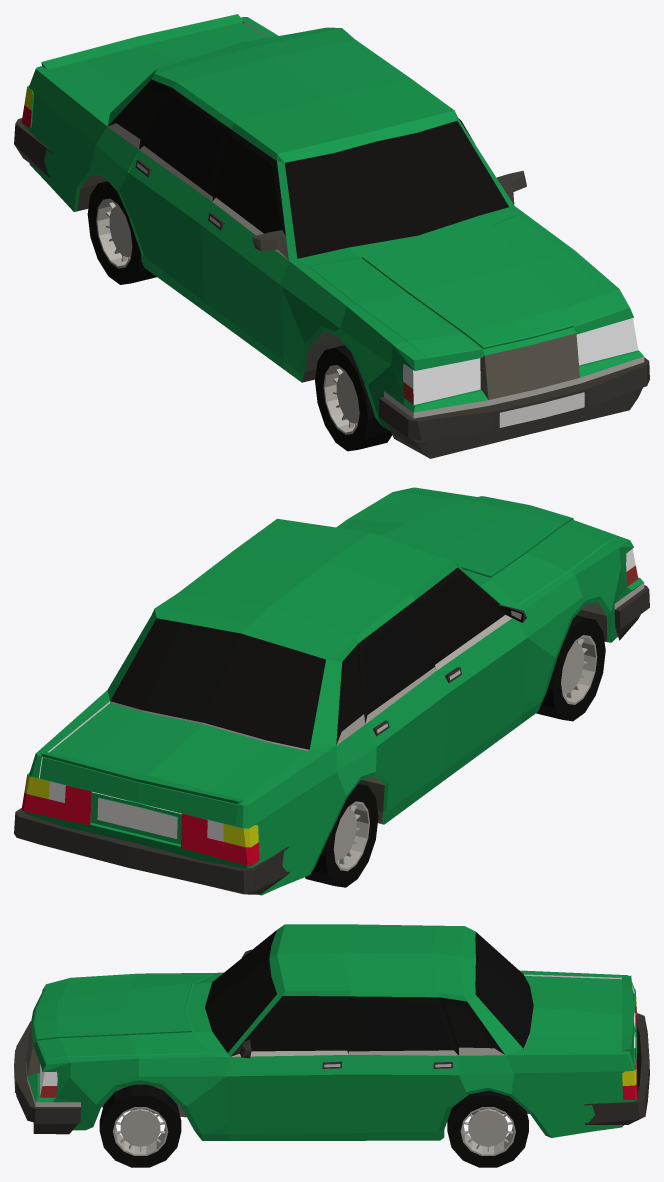
The model's file is Volvo240_1.0.0.fbx.
The picture shows the model from 3 angles, top to bottom: view 1: azimuth 30°, elevation 25°; view 2: azimuth 150°, elevation 25°; view 3: azimuth 270°, elevation 25°; orthographic projection. The views are drawn at different scales.
Visible parts, largest first — view 1: Chassi, Hood, Windscreen, Bumper.F, Doors.FR, Door.RR, Trunk, Wheels.FR, Windows.FR, Window.RR, Wheels.RR, Windows.QR (+1 smaller); view 2: Chassi, Trunk, Window.R, Hood, Doors.FR, Door.RR, Bumper.R, Wheels.FR, Wheels.RR, Windows.FR, Window.RR, Bumper.F (+1 smaller); view 3: Chassi, Hood, Doors.FL, Door.RL, Trunk, Wheels.FL, Wheels.RL, Windscreen, Windows.FL, Window.RL, Window.R, Bumper.F (+2 smaller).
Part boxes in pixels (bbox=[...]): Chassi: bbox=[21, 17, 643, 430]; Hood: bbox=[307, 214, 619, 358]; Windscreen: bbox=[284, 120, 508, 258]; Bumper.F: bbox=[379, 356, 649, 458]; Doors.FR: bbox=[201, 129, 288, 360]; Door.RR: bbox=[119, 88, 230, 301]; Trunk: bbox=[41, 14, 268, 112]; Wheels.FR: bbox=[315, 345, 392, 451]; Windows.FR: bbox=[216, 135, 282, 233]; Window.RR: bbox=[146, 94, 223, 188]; Wheels.RR: bbox=[87, 181, 156, 284]; Windows.QR: bbox=[116, 89, 165, 139]; Chassi: bbox=[21, 487, 643, 895]; Trunk: bbox=[38, 701, 309, 825]; Window.R: bbox=[110, 618, 325, 749]; Hood: bbox=[344, 489, 619, 605]; Doors.FR: bbox=[415, 567, 527, 770]; Door.RR: bbox=[358, 600, 447, 811]; Bumper.R: bbox=[14, 808, 289, 894]; Wheels.FR: bbox=[536, 615, 605, 721]; Wheels.RR: bbox=[305, 784, 378, 887]; Windows.FR: bbox=[419, 574, 505, 664]; Window.RR: bbox=[362, 608, 427, 710]; Bumper.F: bbox=[614, 582, 649, 640]; Chassi: bbox=[26, 924, 637, 1140]; Hood: bbox=[33, 974, 213, 1060]; Doors.FL: bbox=[226, 996, 350, 1133]; Door.RL: bbox=[348, 996, 465, 1132]; Trunk: bbox=[524, 974, 635, 1061]; Wheels.FL: bbox=[99, 1084, 181, 1167]; Wheels.RL: bbox=[447, 1090, 528, 1167]; Windscreen: bbox=[205, 930, 276, 1052]; Windows.FL: bbox=[250, 1000, 348, 1051]; Window.RL: bbox=[358, 999, 450, 1048]; Window.R: bbox=[475, 932, 533, 1048]; Bumper.F: bbox=[14, 1021, 80, 1134].
Size of the model in its own units: 182 by 142 by 481.
